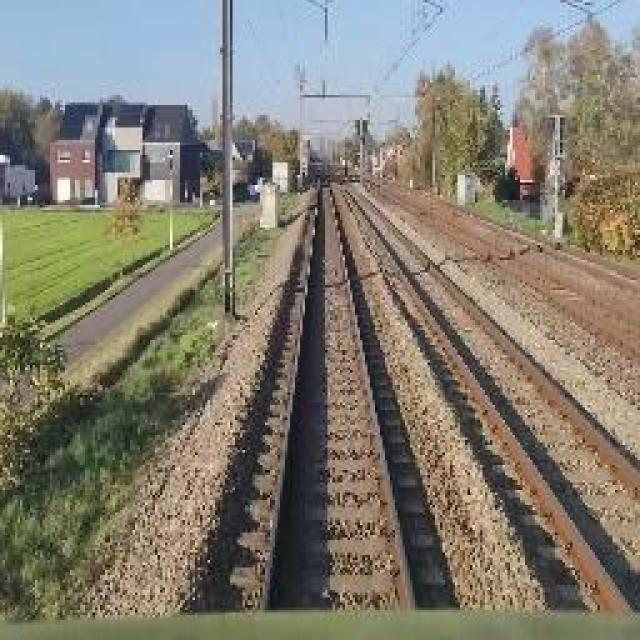rail: (332, 168, 640, 613), (198, 170, 457, 610)
